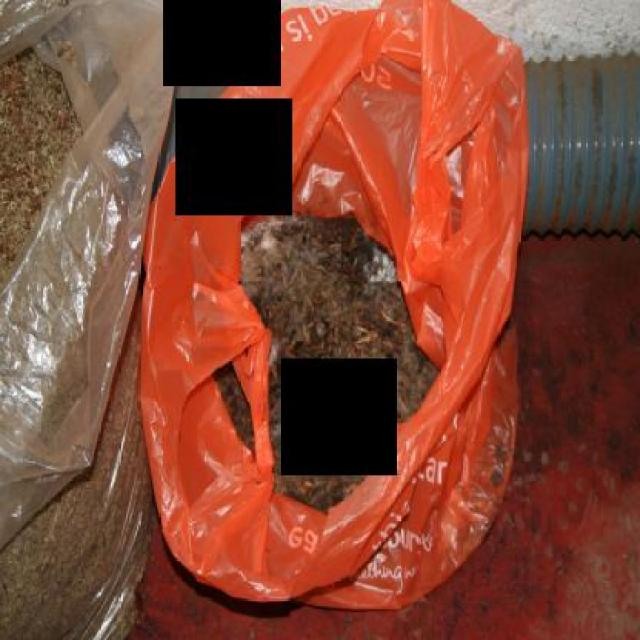plastic bag: (137, 0, 528, 611), (0, 0, 180, 638)
